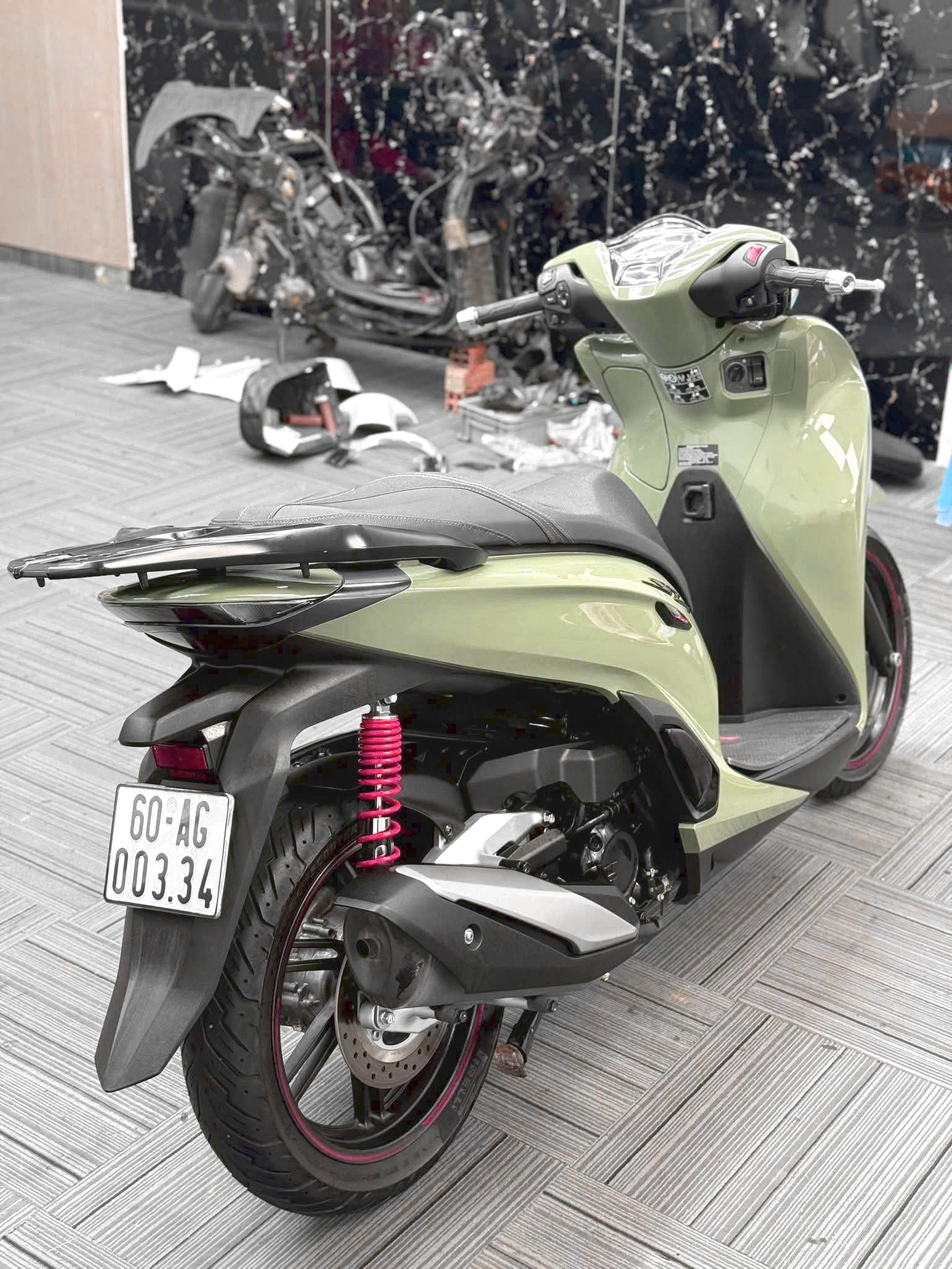Bien-so: (117, 824, 247, 963)
